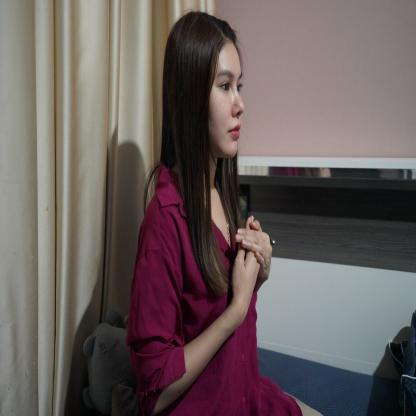Grieve: (225, 211, 277, 328)
